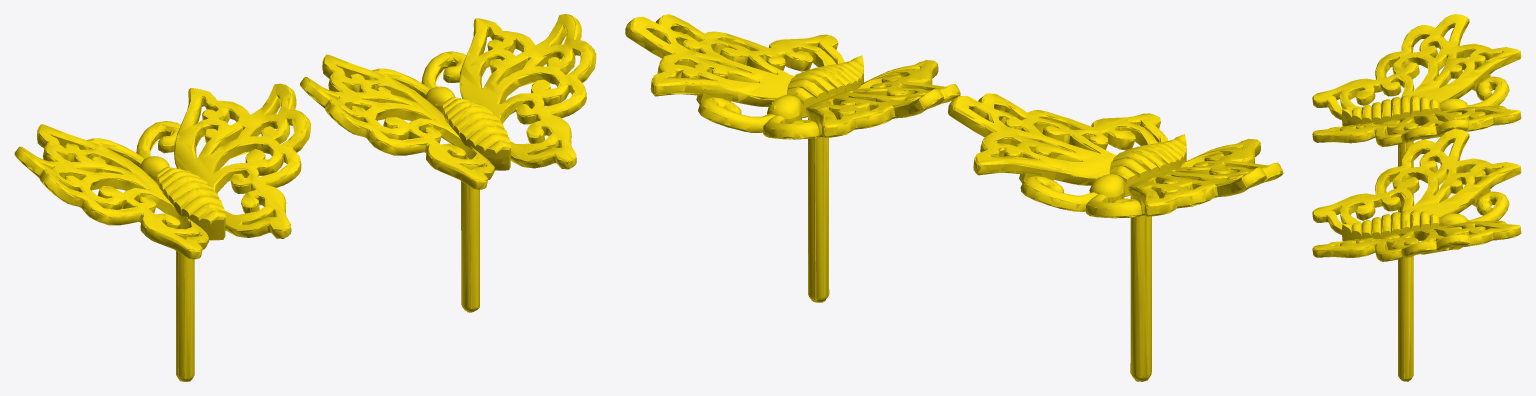
Rendered from GPNGP-SAD0003043.glb.
The picture shows the model from 3 angles, left to right: view 1: azimuth 30°, elevation 25°; view 2: azimuth 150°, elevation 25°; view 3: azimuth 270°, elevation 25°; orthographic projection. The views are drawn at different scales.
Visible parts, largest first — view 1: highPolyMesh, lowPolyMesh; view 2: highPolyMesh, lowPolyMesh; view 3: highPolyMesh, lowPolyMesh.
Part boxes in pixels (<box>): highPolyMesh: <box>14,14,596,381</box>; lowPolyMesh: <box>14,14,596,381</box>; highPolyMesh: <box>625,14,1282,381</box>; lowPolyMesh: <box>625,14,1283,381</box>; highPolyMesh: <box>1312,14,1521,381</box>; lowPolyMesh: <box>1312,14,1521,381</box>.
Size of the model in its own units: 0.0275 by 0.0114 by 0.0108.
